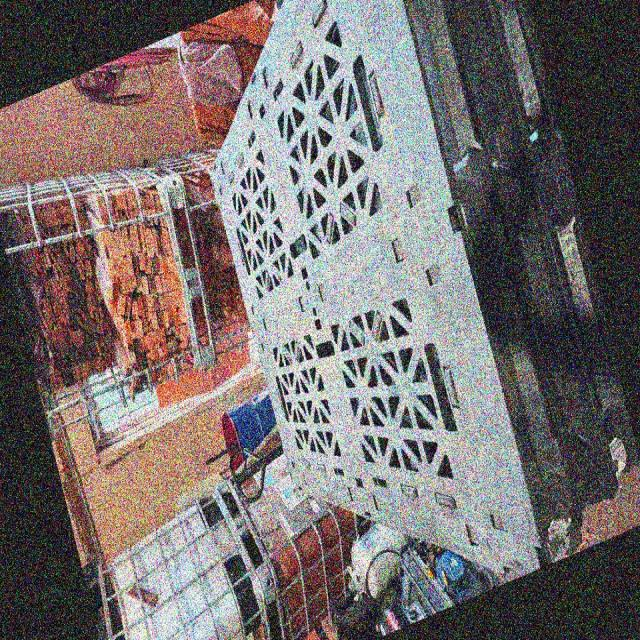igps: (209, 0, 582, 576), (447, 0, 619, 530), (491, 0, 640, 481)
